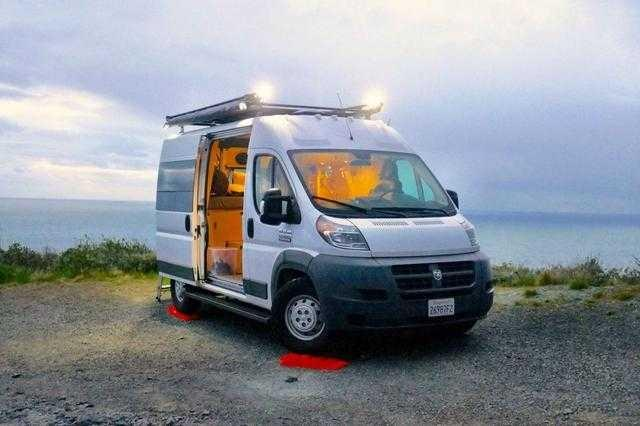car: (150, 107, 495, 366)
